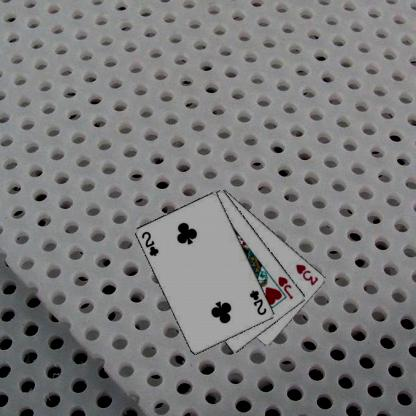2C: (247, 288, 268, 316), (139, 229, 160, 257)
3H: (293, 262, 320, 286)
JH: (276, 274, 294, 300)
